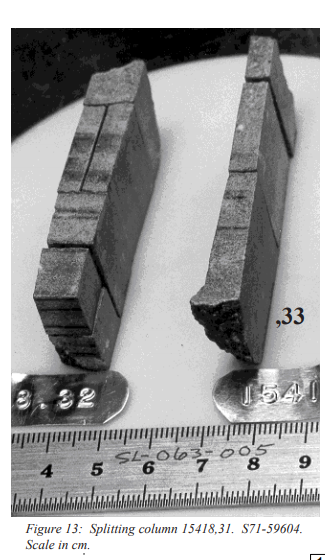Breccia: (59, 66, 124, 350), (209, 37, 244, 320)
